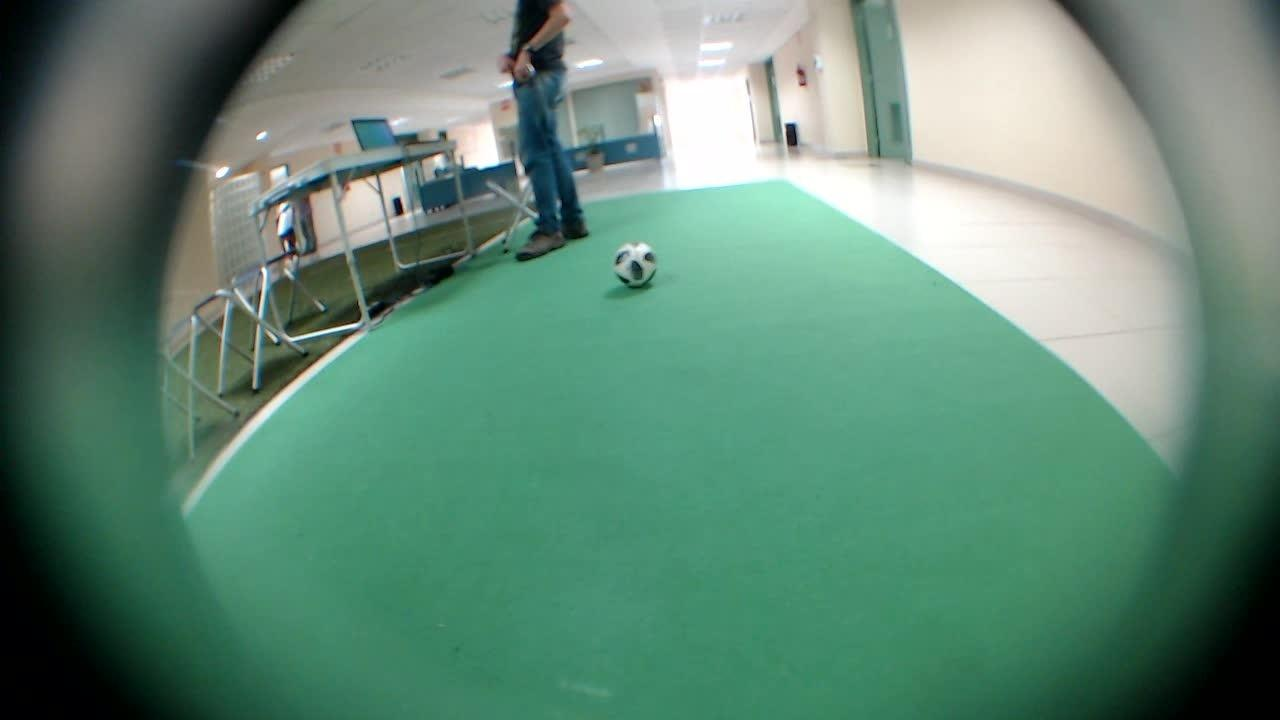ball: (604, 236, 662, 292)
